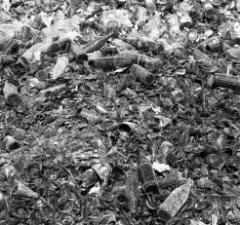glass: (136, 146, 160, 196), (124, 170, 142, 216)
